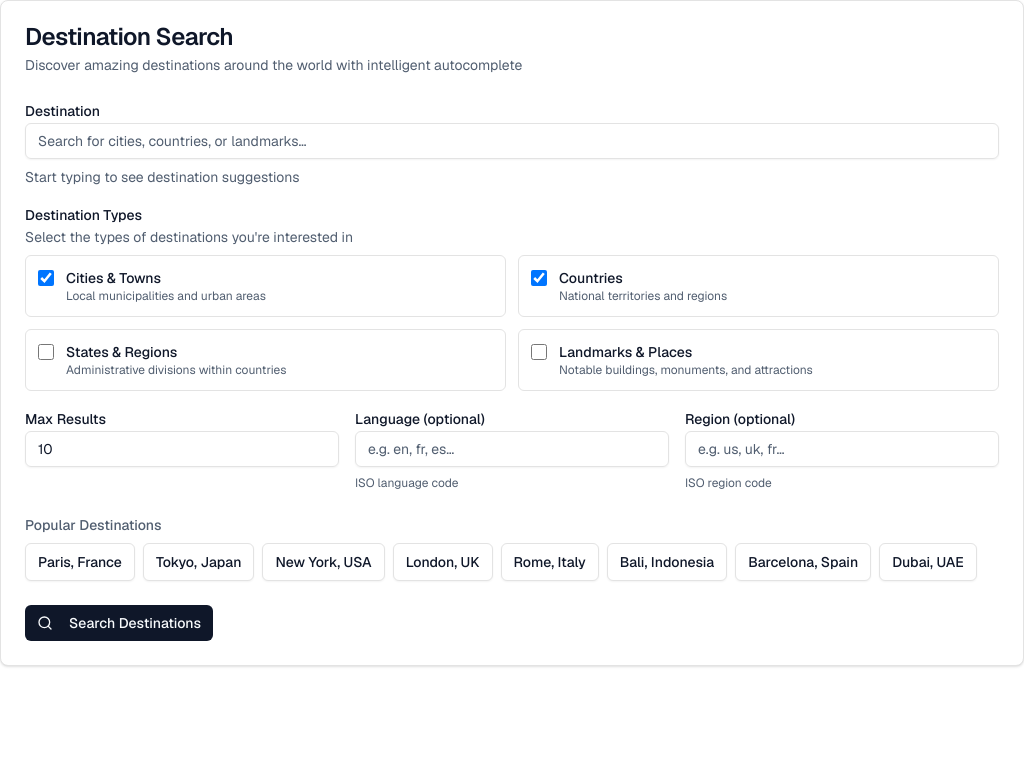
Test: DestinationSearchForm › shows rate limit errors from the API
The image size is (1024, 768).
Step 1. Type "Paris" into the dropdown with placeholder "Search for cities, countries, or landmarks…" → [512, 141], box [25,123,999,159]
Wait 350 ms
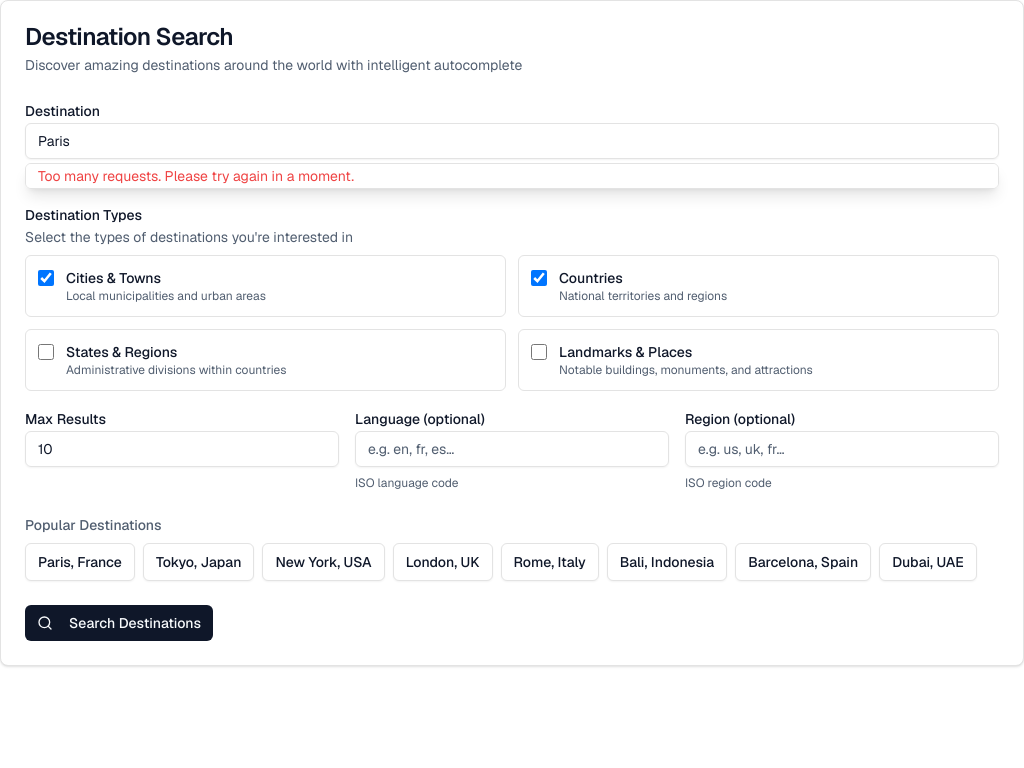
Result: the text "Too many requests. Please try again in a moment." is shown at [38,167,354,185]
